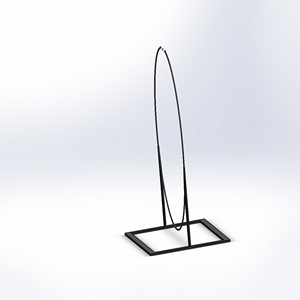circle: (123, 44, 234, 256)
